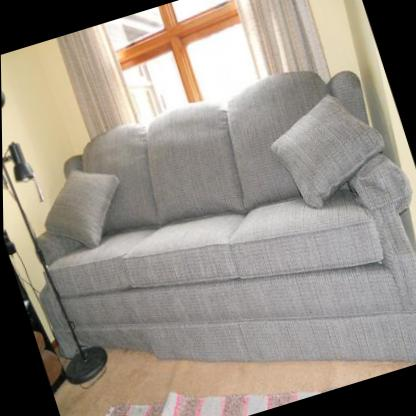Carpet: (105, 392, 320, 416)
Lamp: (1, 59, 113, 388)
Sofa: (35, 72, 416, 364)
